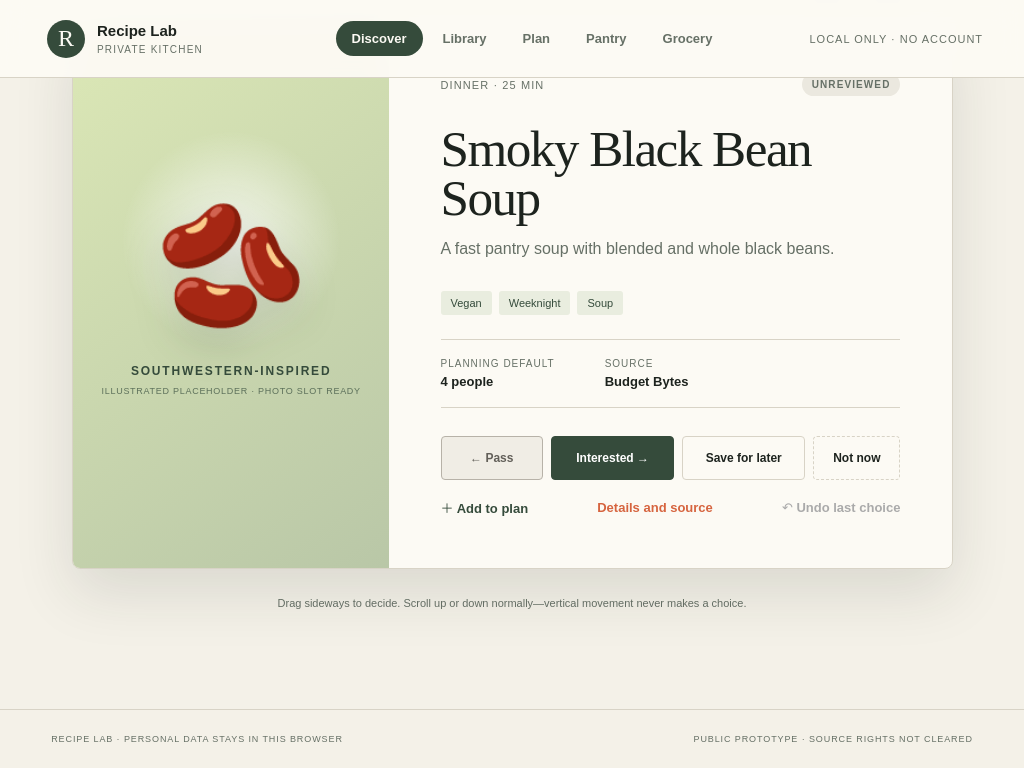
Test: Recipe Lab personal planning experience › treats Not now as a deferral with an explicit end and revisit action
The image size is (1024, 768).
(page scrolled)
Click the button "Not now".
click(856, 458)  # box [813,436,900,480]
(page scrolled)
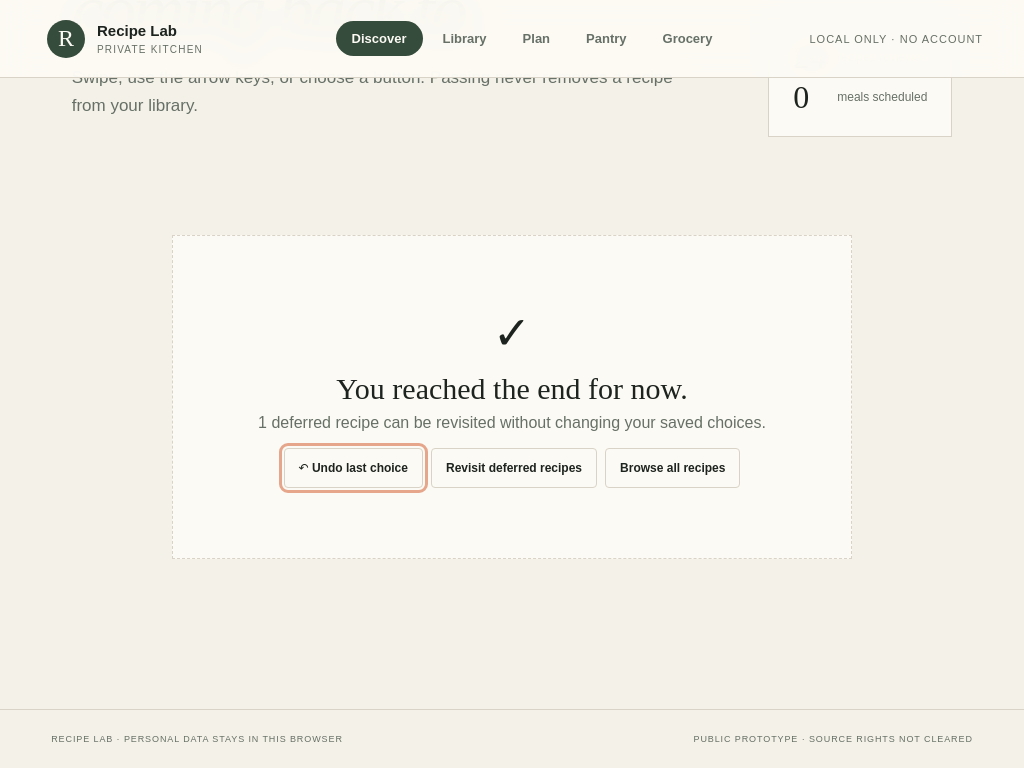
Check: the heading "You reached the end for now." is shown, box [336,372,688,406]
Click the button "Revisit deferred recipes".
click(514, 468)  # box [431,448,597,488]
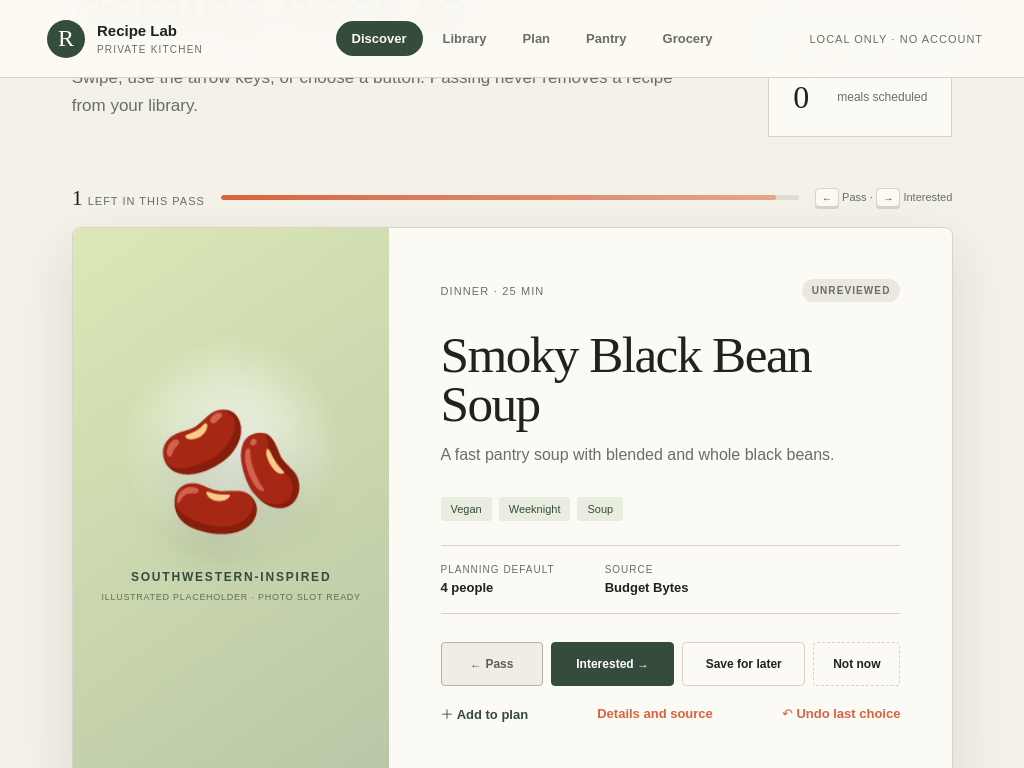
Check: the heading "Smoky Black Bean Soup" is shown, box [440,326,811,432]
Check: the text "Unreviewed" is shown, box [801,279,900,302]
